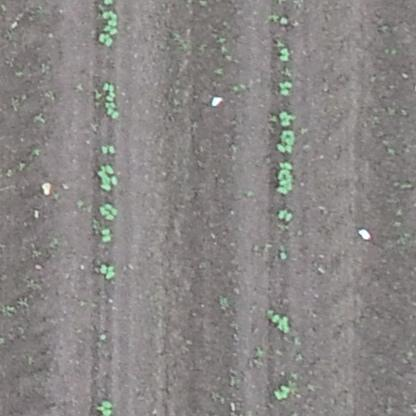vc: (101, 79, 120, 119), (275, 159, 294, 195), (96, 164, 120, 192), (276, 129, 295, 155), (99, 10, 120, 33), (272, 312, 294, 333), (276, 78, 295, 100), (99, 202, 121, 220), (98, 262, 118, 280), (276, 206, 296, 222), (274, 383, 291, 401), (278, 110, 296, 126), (94, 33, 116, 46), (96, 399, 112, 416), (278, 45, 293, 63), (99, 227, 113, 246), (100, 142, 116, 154), (279, 15, 287, 25)
